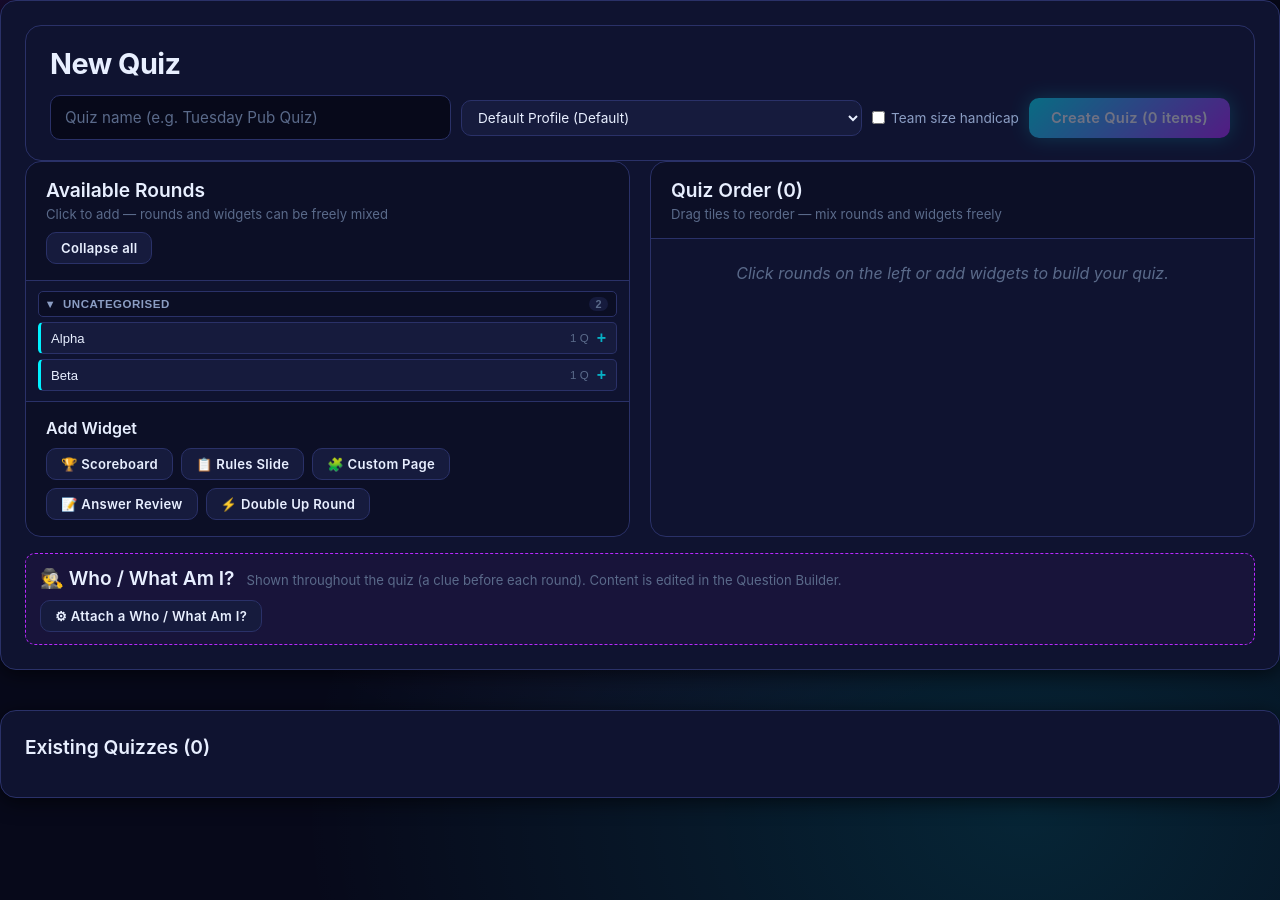
Scenario: QuizBuilder — duplicate question guard › blocks saving and warns when the same question appears in two rounds
This screenshot has width=1280, height=900.
Click the button titled "Add \"Alpha\" to quiz": (68, 338) [38,322,617,354]
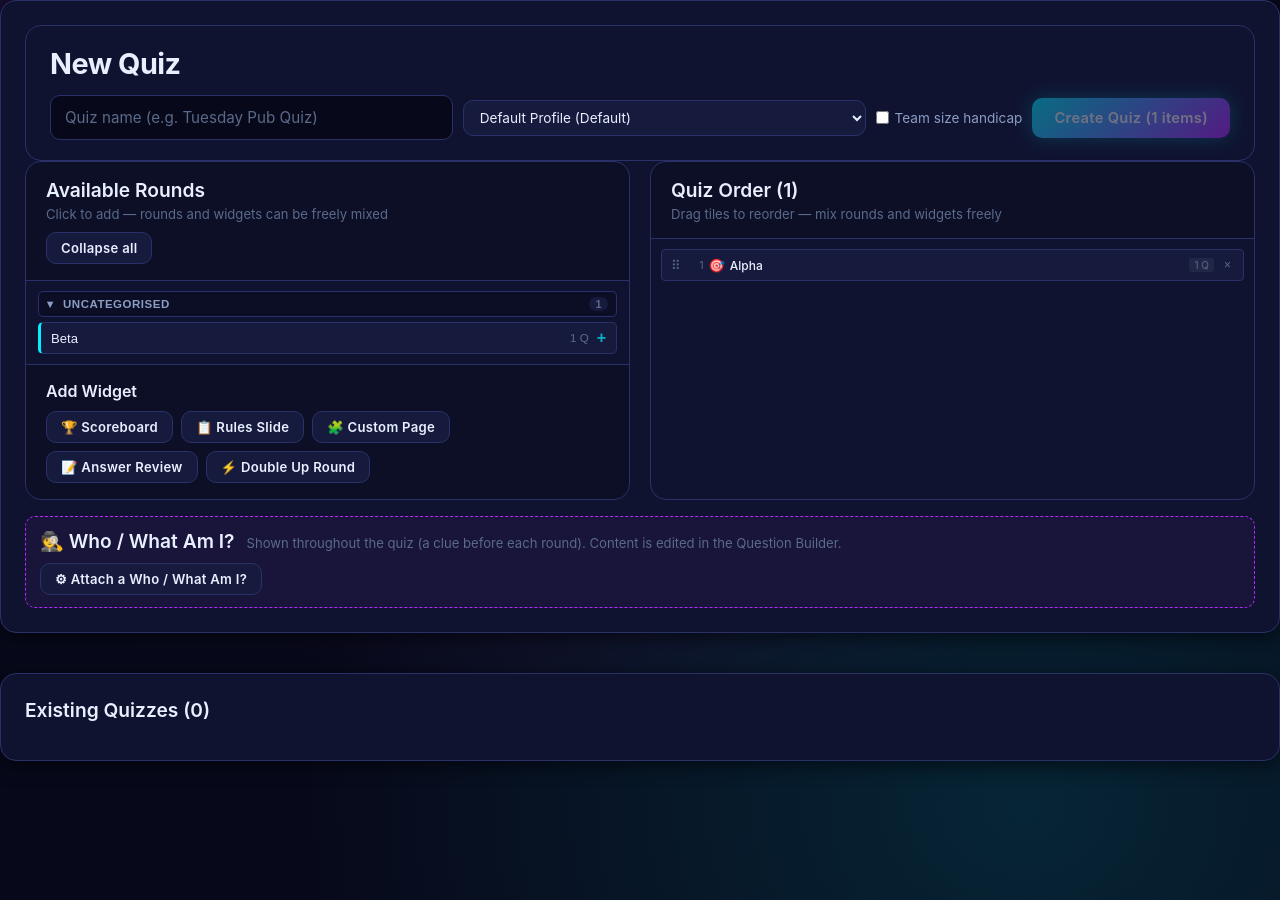
Click the button "Beta 1 Q +": (64, 338) [38,322,617,354]
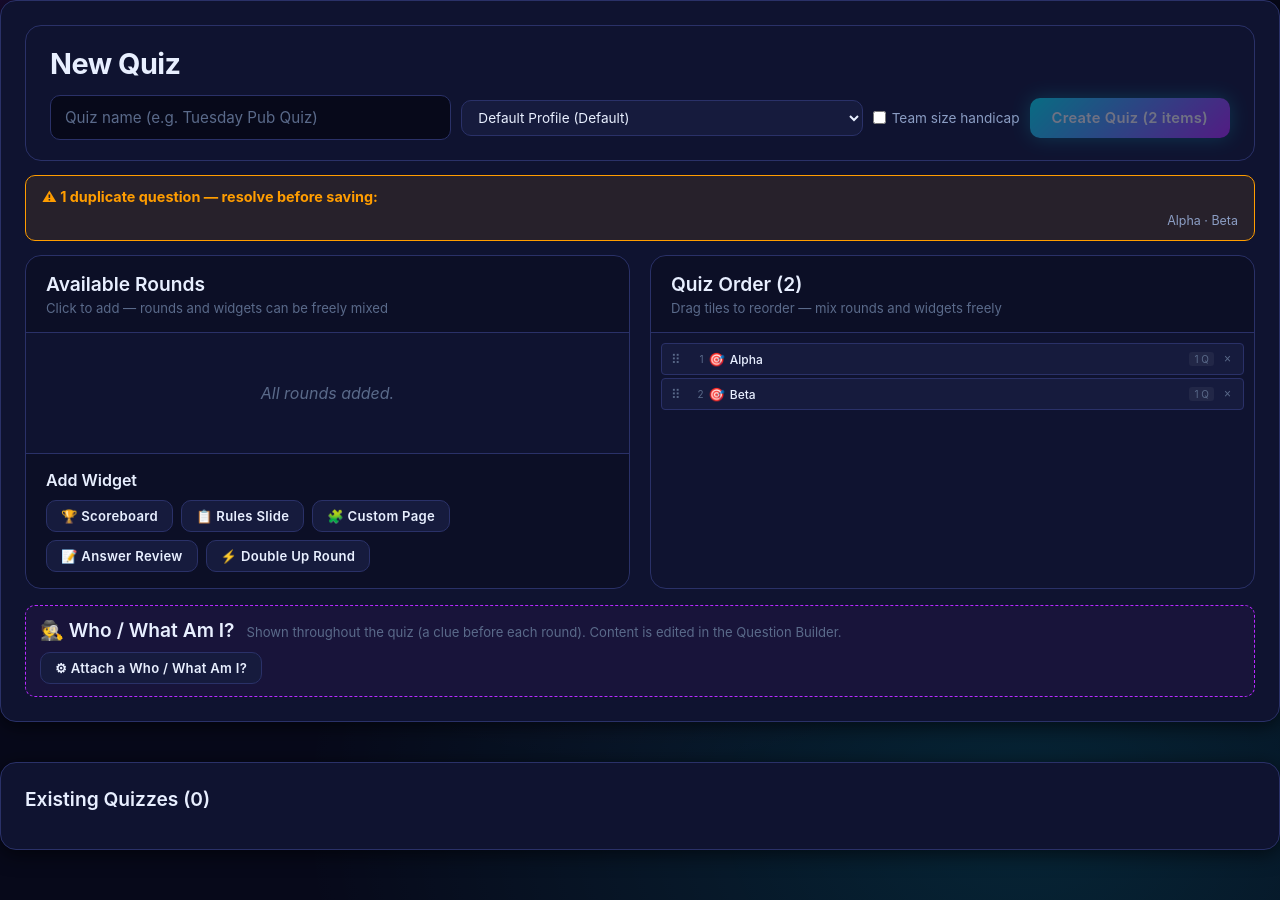
Expected: the button "Create Quiz (2 items)" is disabled, [1030,98,1230,138]
Result: the text "⚠ 1 duplicate question — resolve before saving:" is shown at [42,188,378,205]
